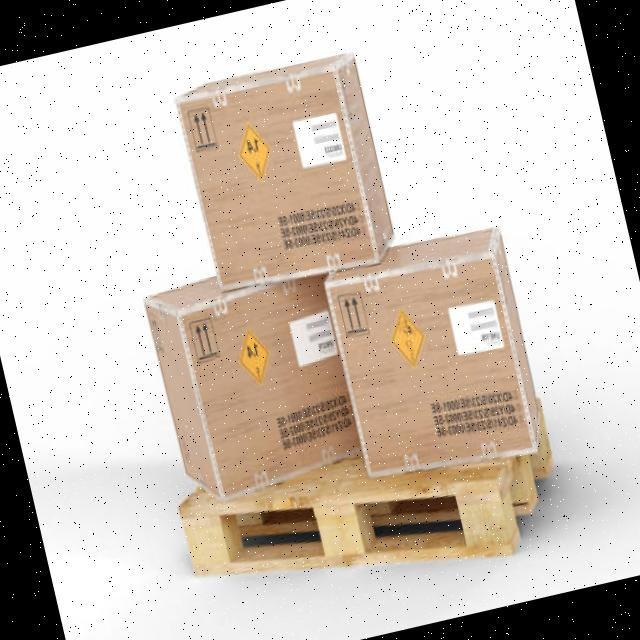Wooden-Pallets: (180, 412, 559, 583)
